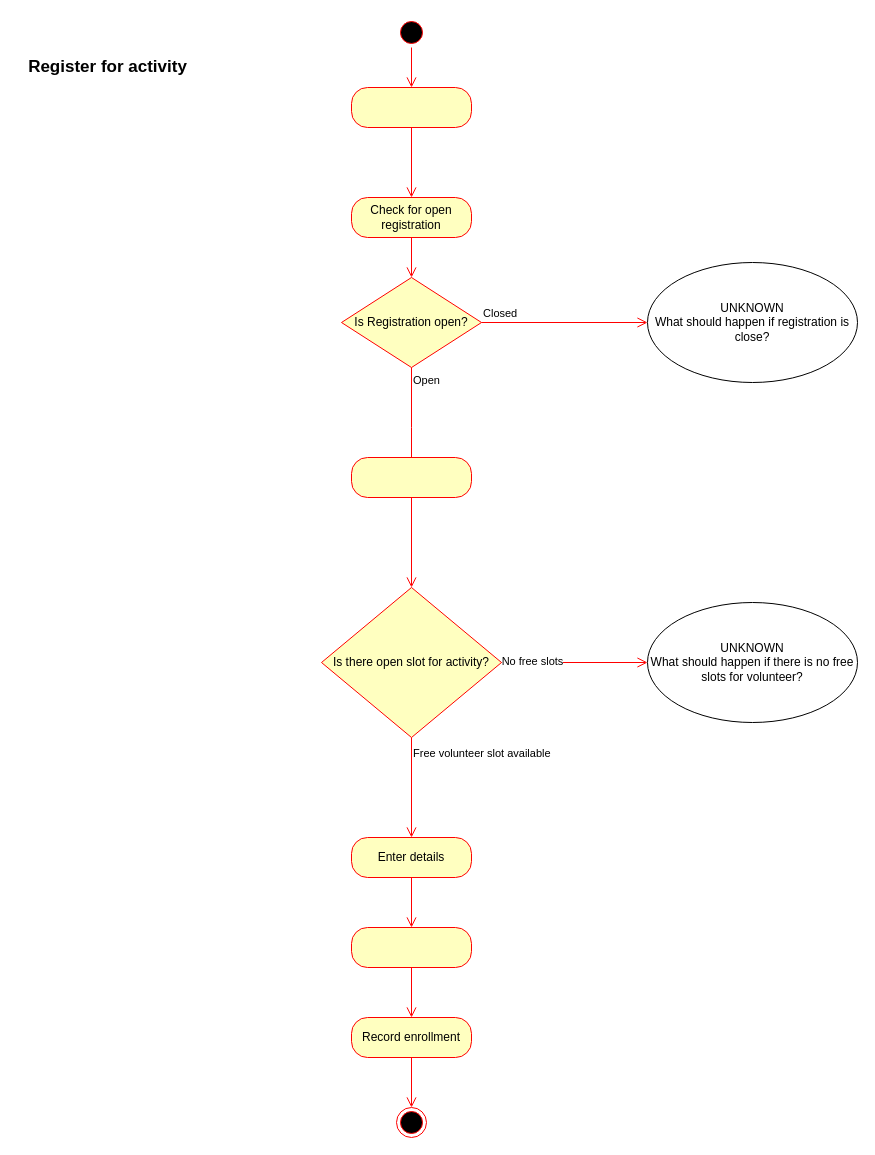
The diagram is 875 pixels wide and 1155 high, and some of its shapes have lost their labels. Each missing label, with the centre of its shape:
Check for available volounteer slot: point (411, 477)
Select Activity: point (411, 107)
Submit Enrollment: point (411, 947)
